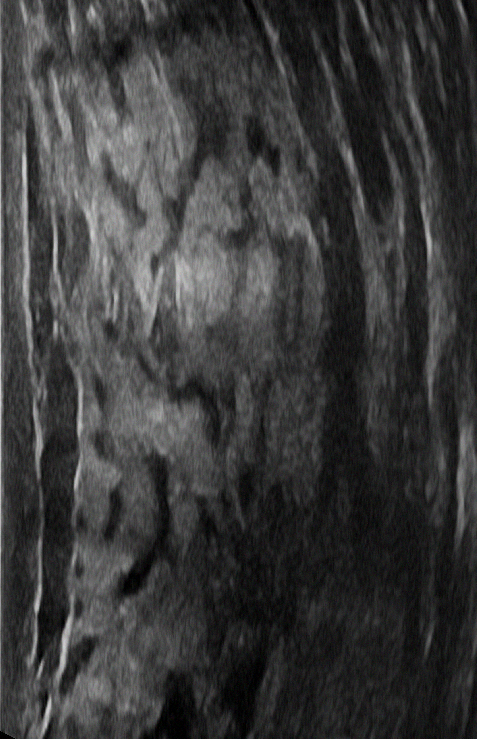Normal: (13, 4, 459, 732)
